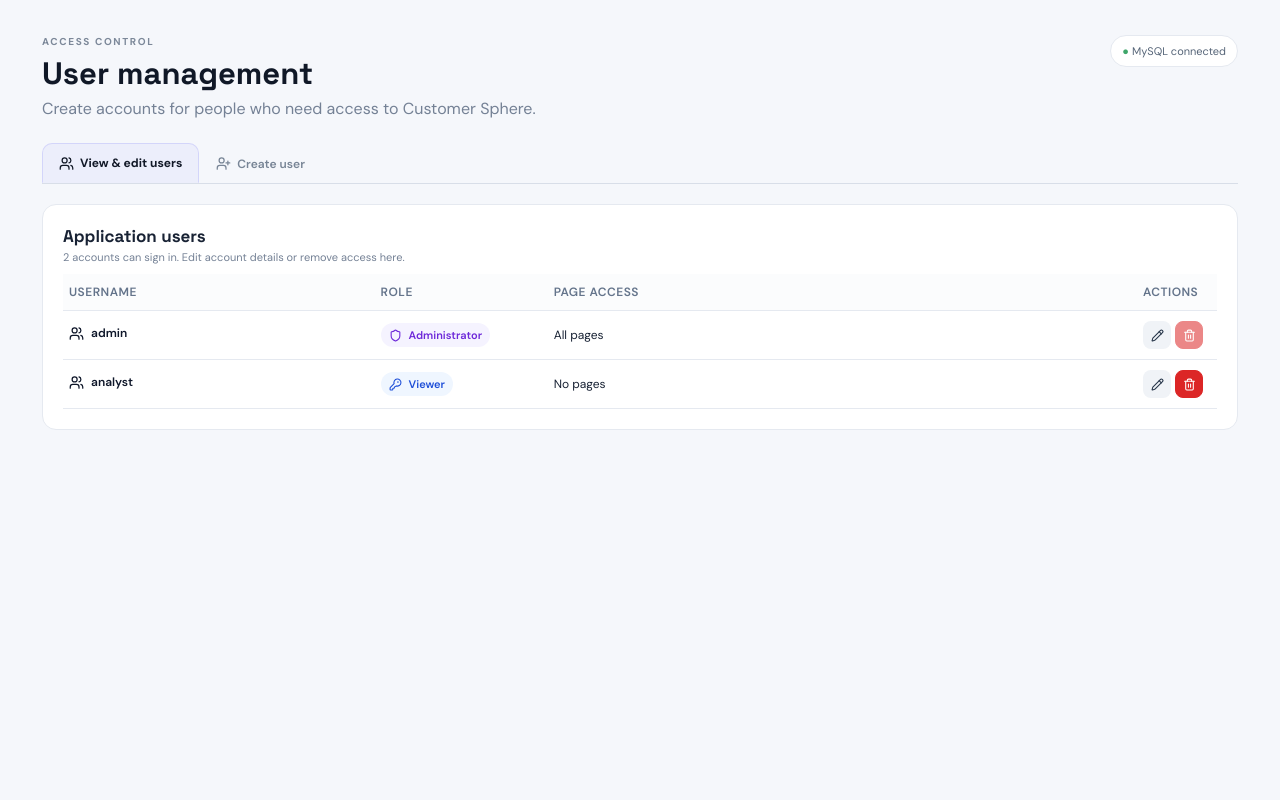
Test case: User management page › shows account roles and creates a user
Expected: the text "analyst" is shown, [69,374,133,390]
Expected: the text "Administrator" is shown, [381,323,490,347]
Click the tab "Create user" at [261, 163], box [199,143,322,183]
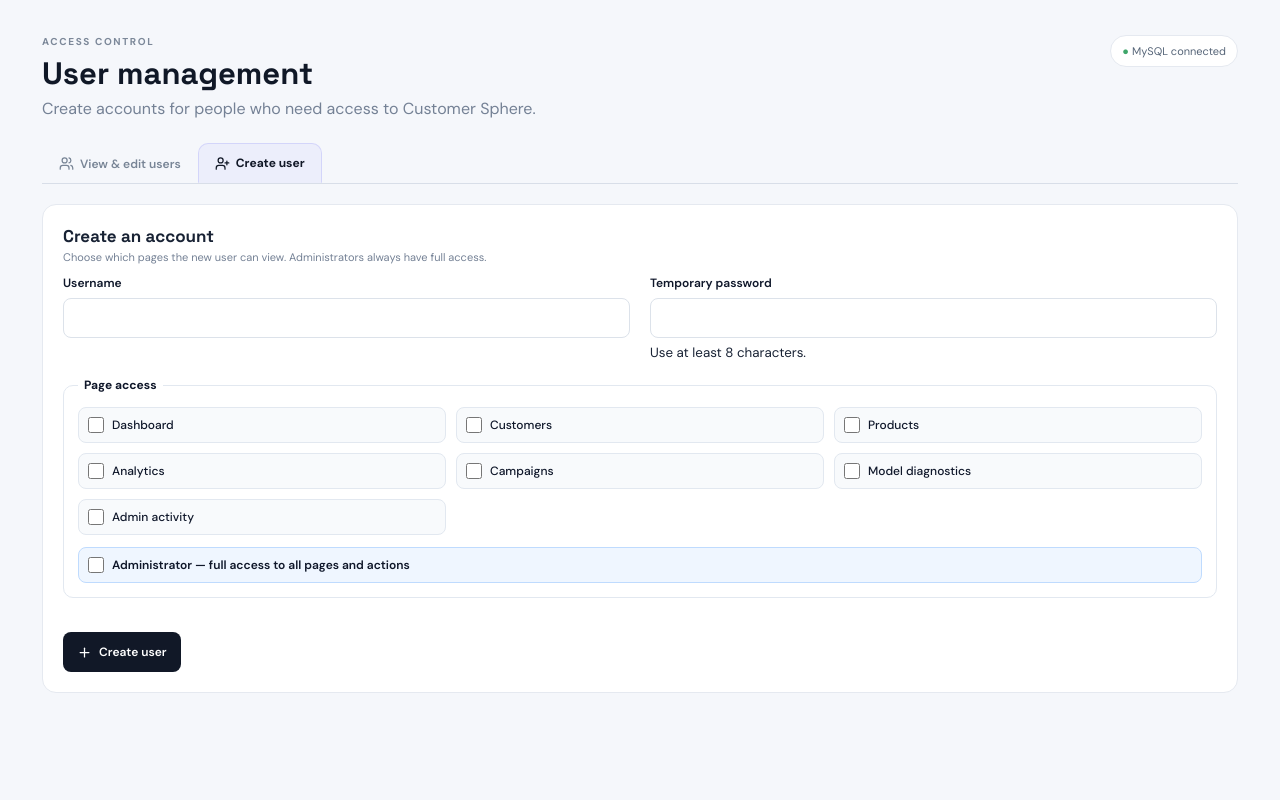
Expected: the panel named "Create user" is shown, [42,204,1238,693]
Type "new_user" into the field labelled "Username" at [346, 318], box [63,298,630,338]
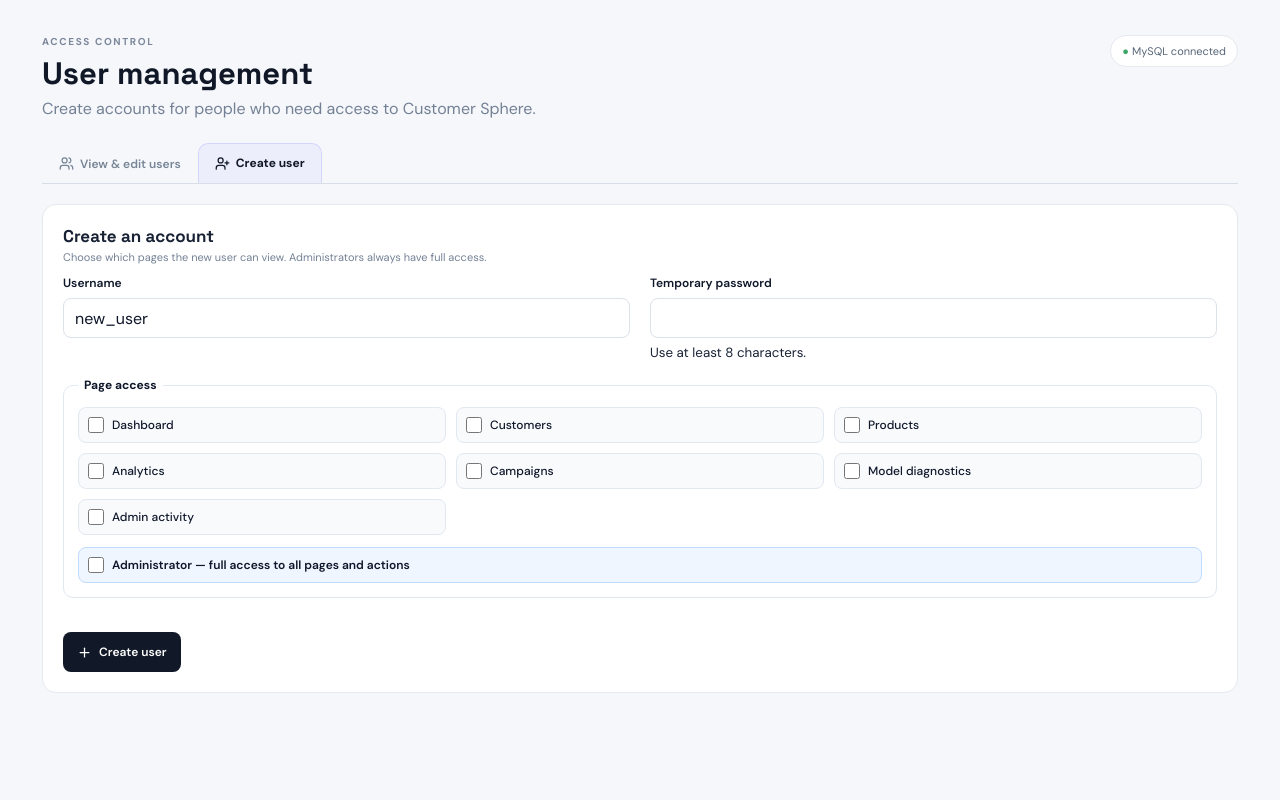
Type "safe-password" into the password field labelled "Temporary password" at [934, 318], box [650,298,1217,338]
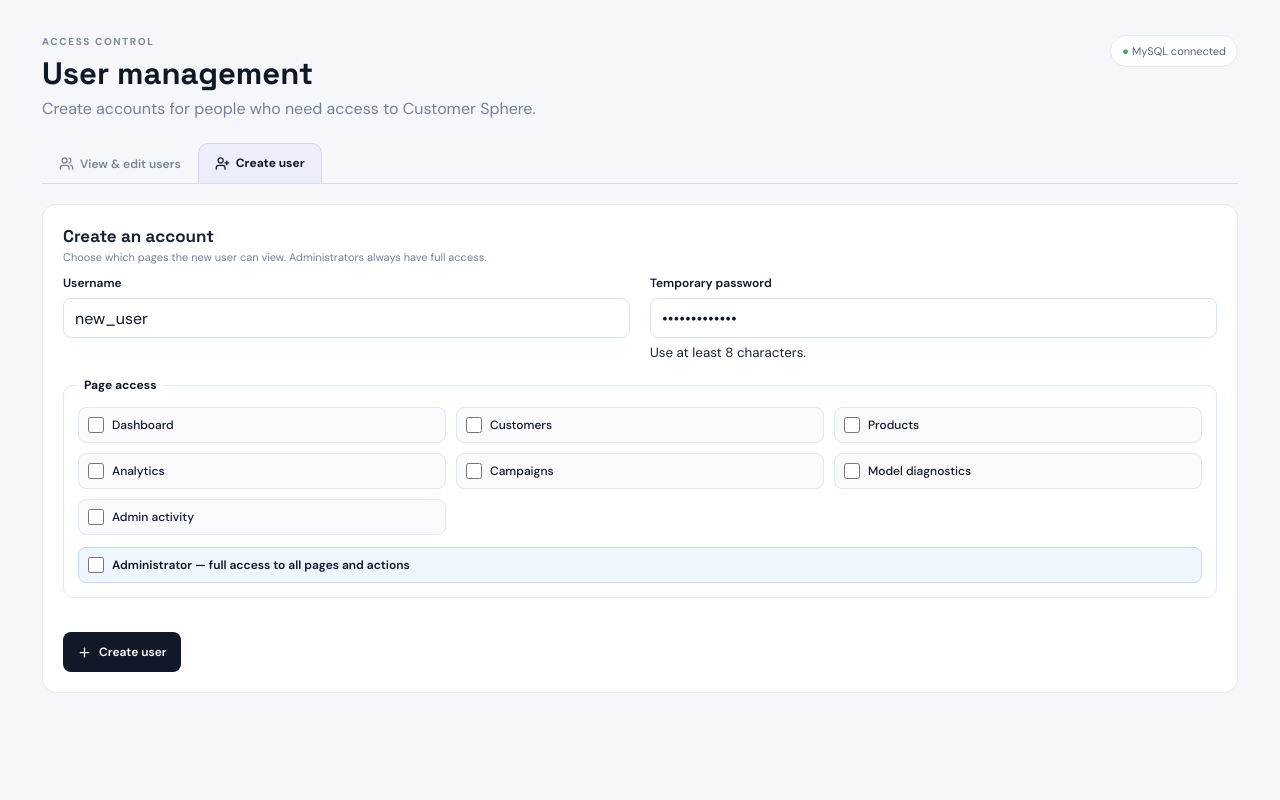
Click the checkbox labelled "Dashboard" at [96, 425], box [88,417,104,433]
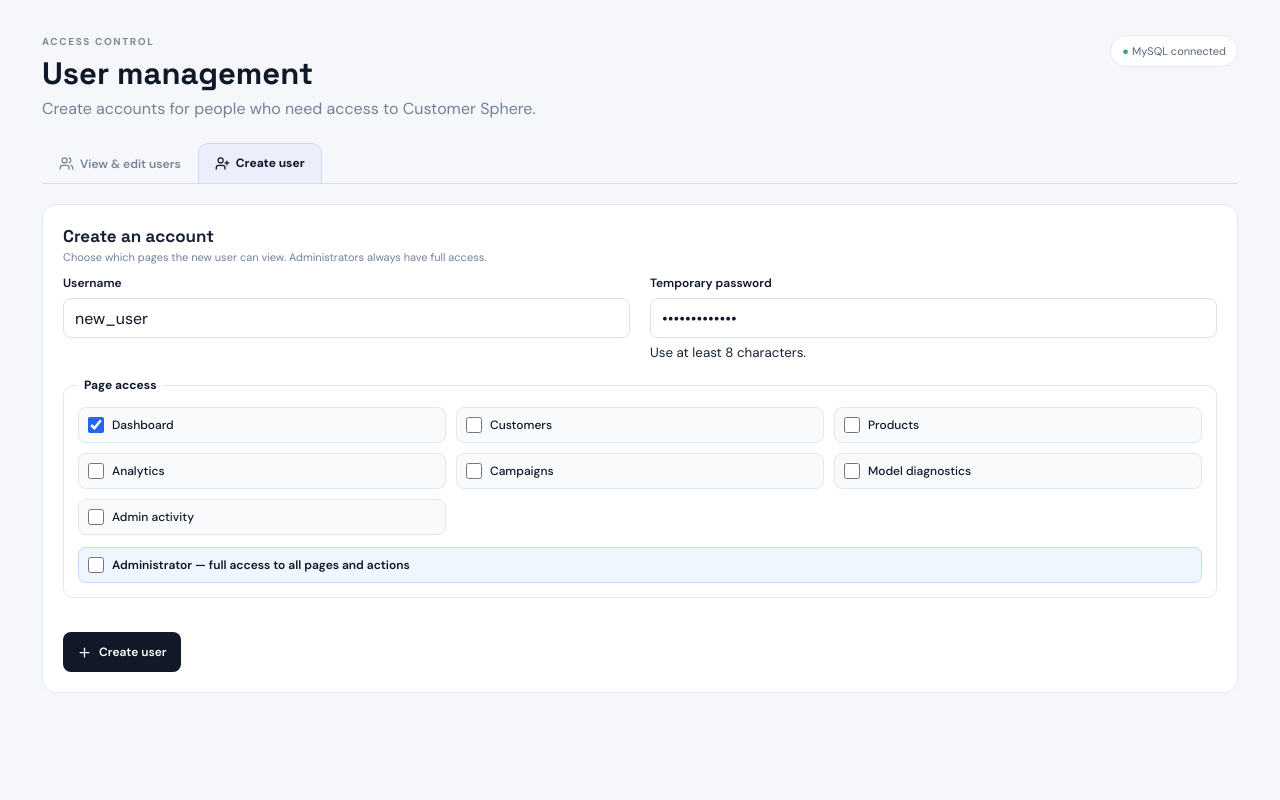
Click the checkbox labelled "Customers" at [474, 425], box [466,417,482,433]
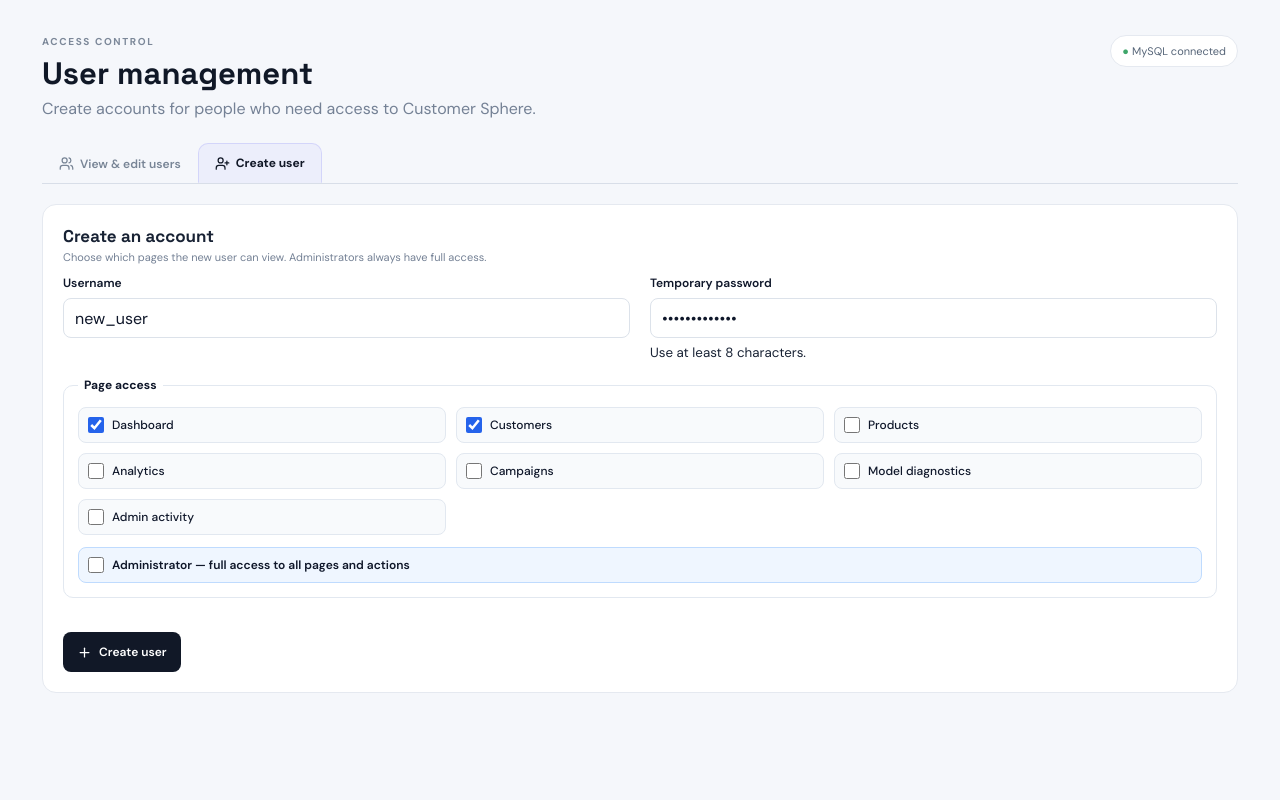
Submit the form named "create user", box [63,274,1217,672]
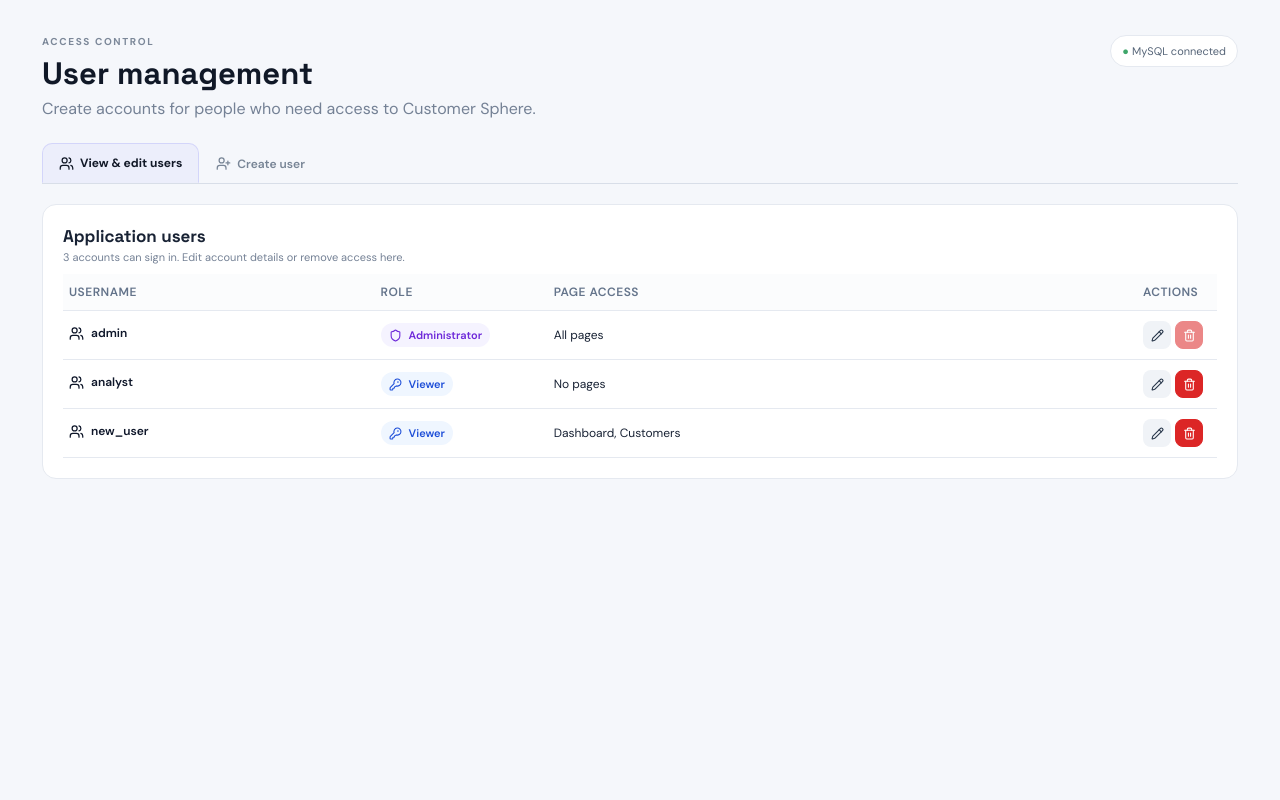
Expected: the text "new_user" is shown, [69,423,149,439]
